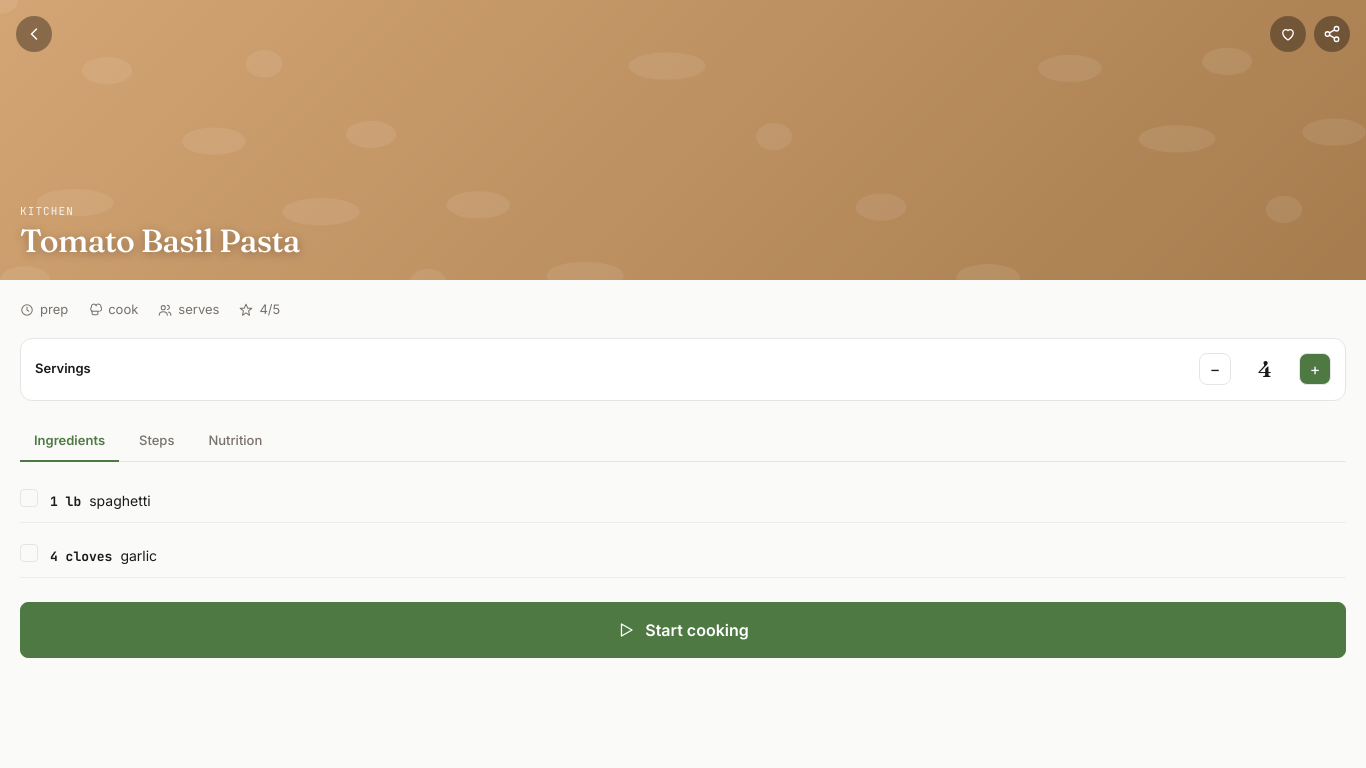
it: /recipes/[id] page — ingredients + steps render › renders ordered steps when the recipe has steps
The image size is (1366, 768).
Click the Steps tab. There is a single "Steps" tab label.
Click the text "Steps": (157, 440) [139,432,174,448]
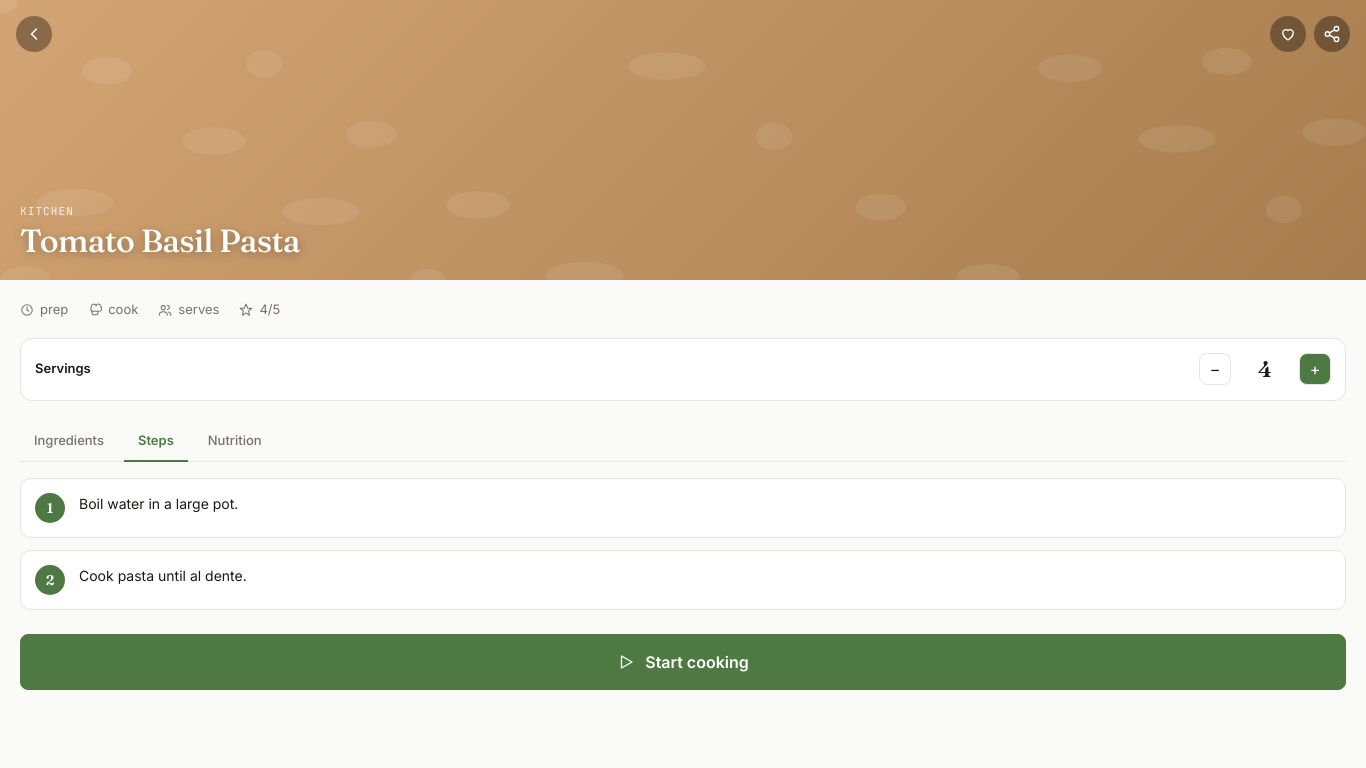
Check: the text "Boil water in a large pot." is shown, box [79,495,238,512]
Check: the text "Cook pasta until al dente." is shown, box [79,567,247,584]
